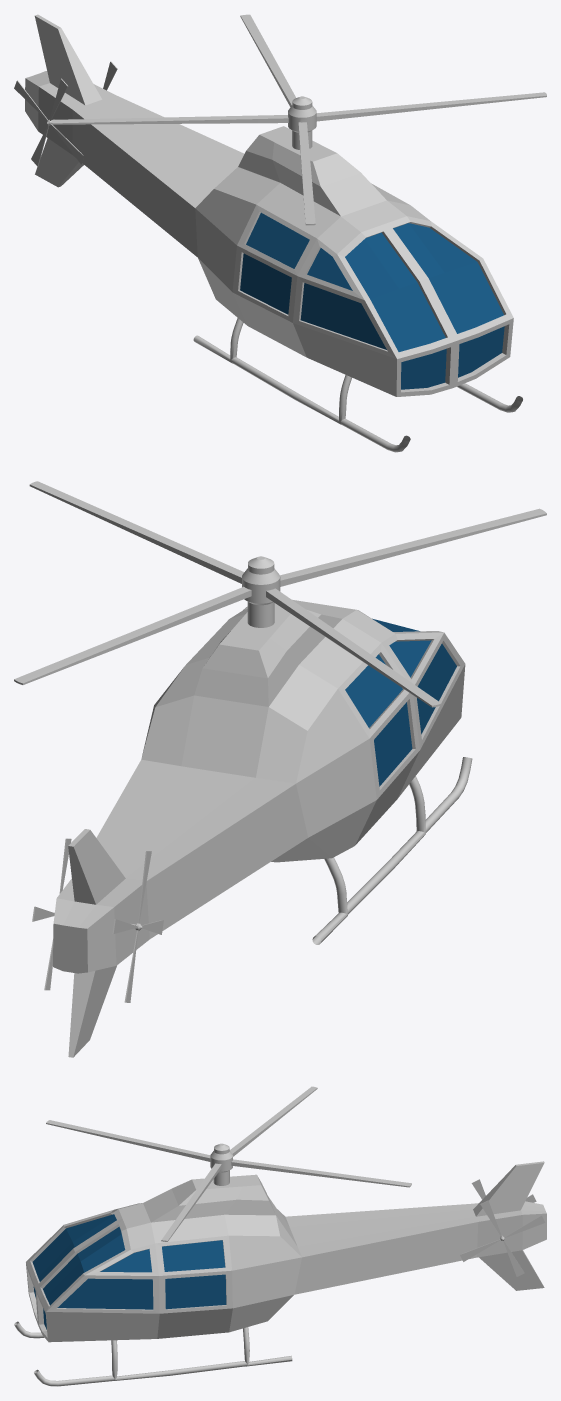
Rendered from helicopter_animation_000086.obj.
3 views of the same model, one above another, from view 1: azimuth 30°, elevation 25°; view 2: azimuth 150°, elevation 25°; view 3: azimuth 270°, elevation 25° (orthographic). The views are drawn at different scales.
Visible parts, largest first — view 1: Helicopter.007_Cylinder.008, Helicopter.001_Cylinder.001, Helicopter.004_Cylinder.005; view 2: Helicopter.007_Cylinder.008, Helicopter.001_Cylinder.001, Helicopter.004_Cylinder.005, Helicopter.003_Cylinder.004; view 3: Helicopter.007_Cylinder.008, Helicopter.001_Cylinder.001, Helicopter.003_Cylinder.004.
Boxes of the visible parts, x1,y1,x2,y2 form: Helicopter.007_Cylinder.008: [25, 14, 522, 452]; Helicopter.001_Cylinder.001: [51, 14, 546, 225]; Helicopter.004_Cylinder.005: [14, 78, 84, 166]; Helicopter.007_Cylinder.008: [53, 599, 472, 1057]; Helicopter.001_Cylinder.001: [14, 481, 546, 707]; Helicopter.004_Cylinder.005: [112, 851, 163, 1002]; Helicopter.003_Cylinder.004: [32, 838, 71, 990]; Helicopter.007_Cylinder.008: [14, 1161, 546, 1386]; Helicopter.001_Cylinder.001: [46, 1086, 411, 1241]; Helicopter.003_Cylinder.004: [460, 1200, 545, 1276].
Size of the model in its own units: 5.17 by 3.2 by 7.55.
